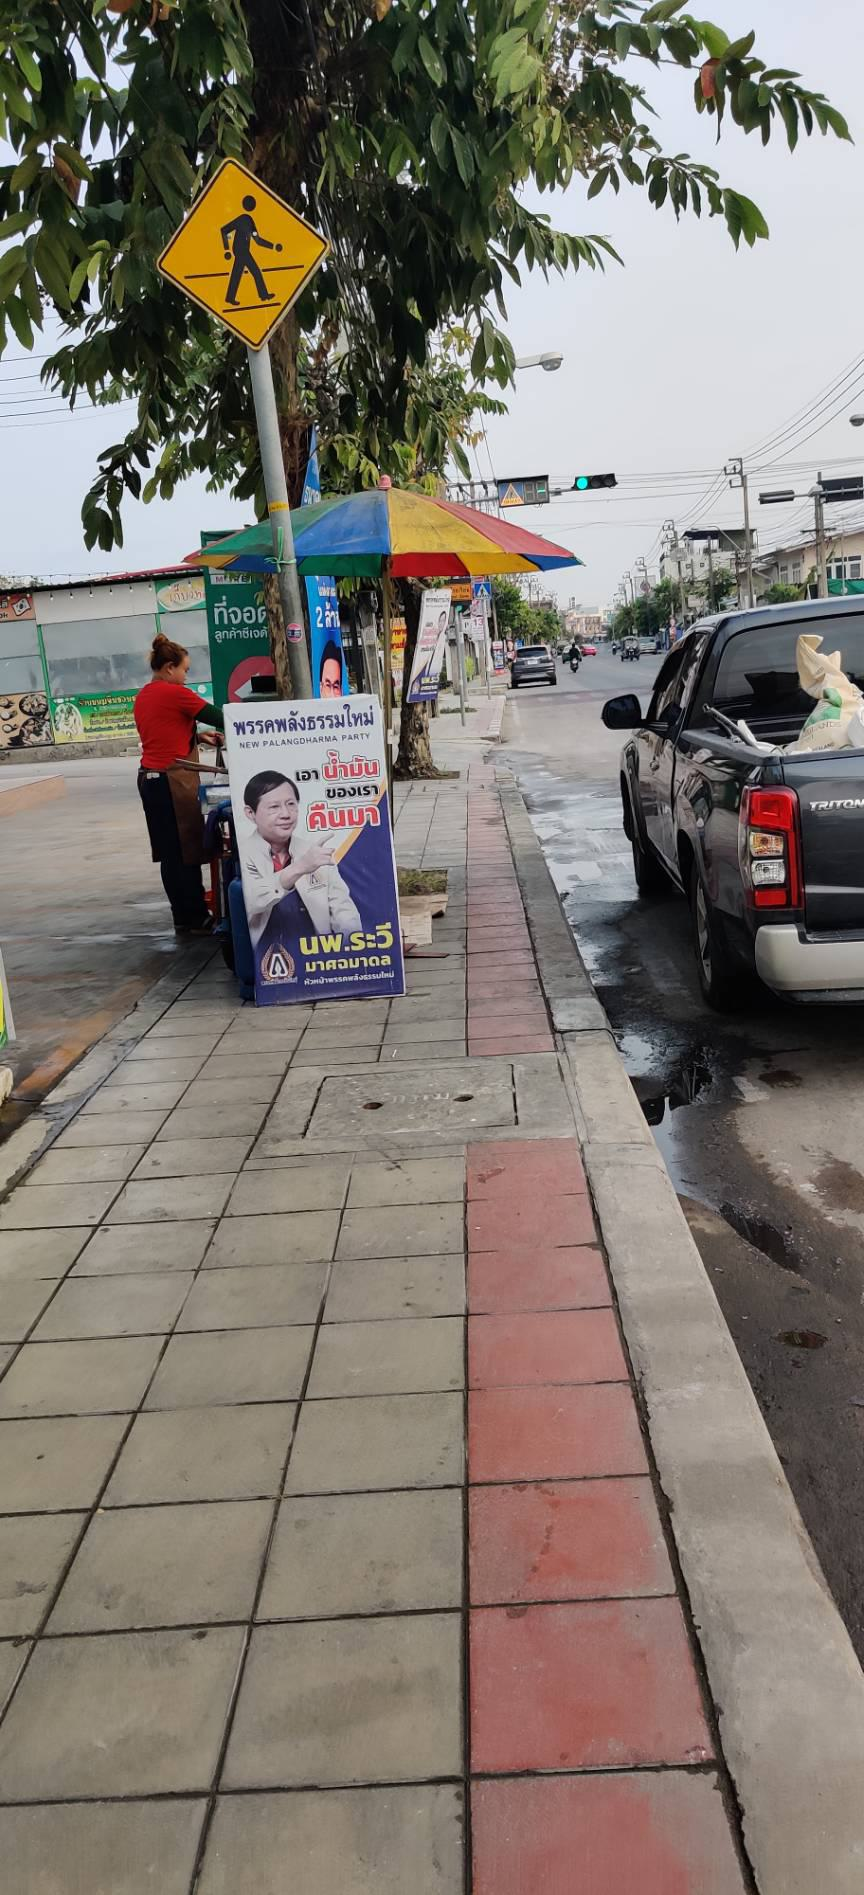Banner: (218, 685, 402, 999)
